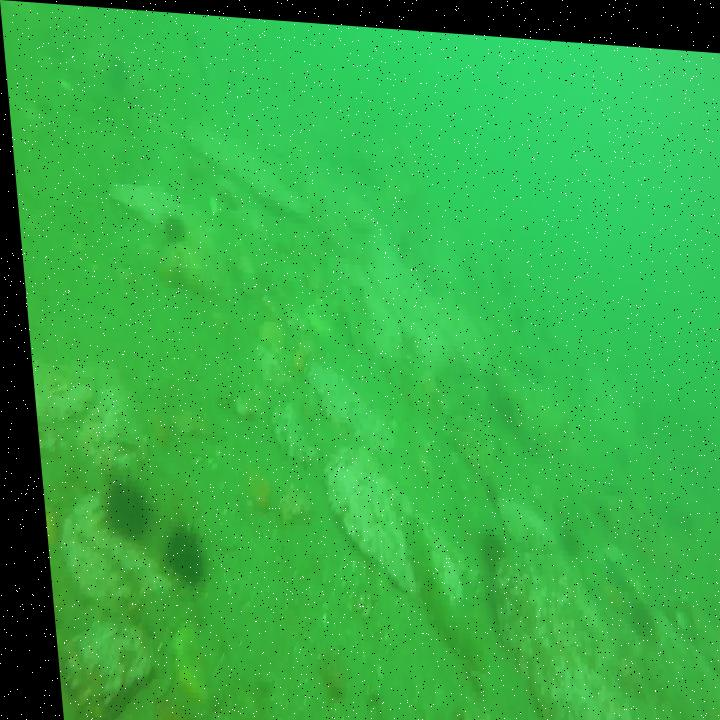echinus: (150, 518, 197, 584), (95, 479, 140, 541), (471, 524, 498, 564), (620, 591, 645, 627), (157, 212, 182, 241)
holothurian: (391, 505, 468, 653)
